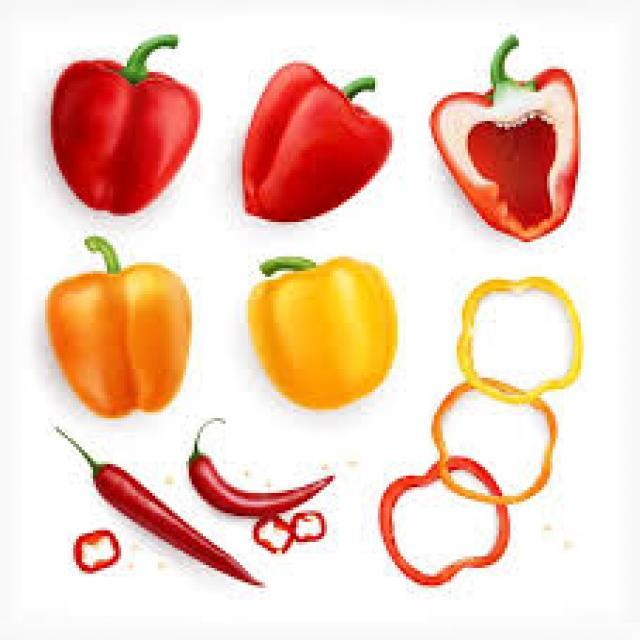Pepper: (427, 33, 586, 247), (54, 430, 264, 592), (47, 29, 206, 219), (42, 232, 196, 418), (232, 56, 392, 225), (244, 256, 402, 417), (185, 419, 338, 520)
